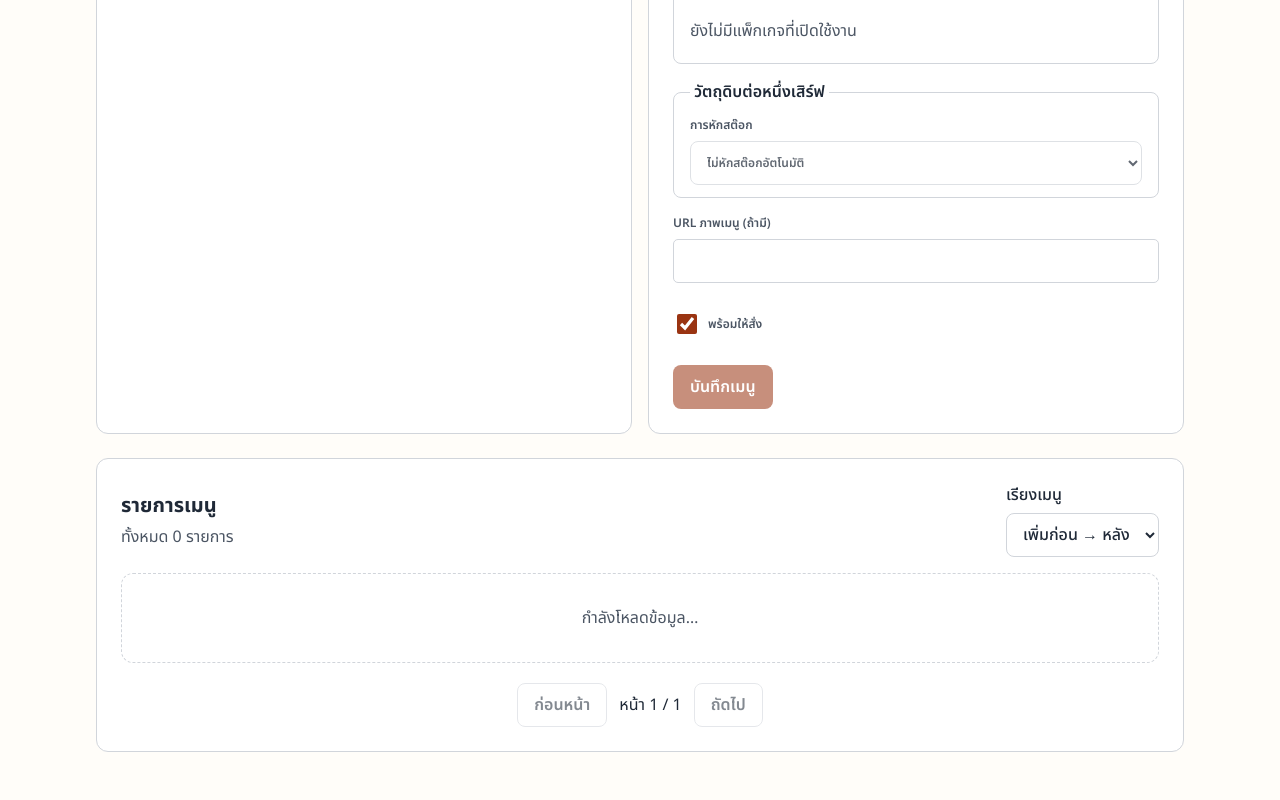
it: ignores a stale catalog failure after the selected sort succeeds
The image size is (1280, 800).
(page scrolled)
Select "ชื่อ Z → A" in the dropdown labelled "เรียงเมนู" at [1082, 535], box [1006, 513, 1159, 557]
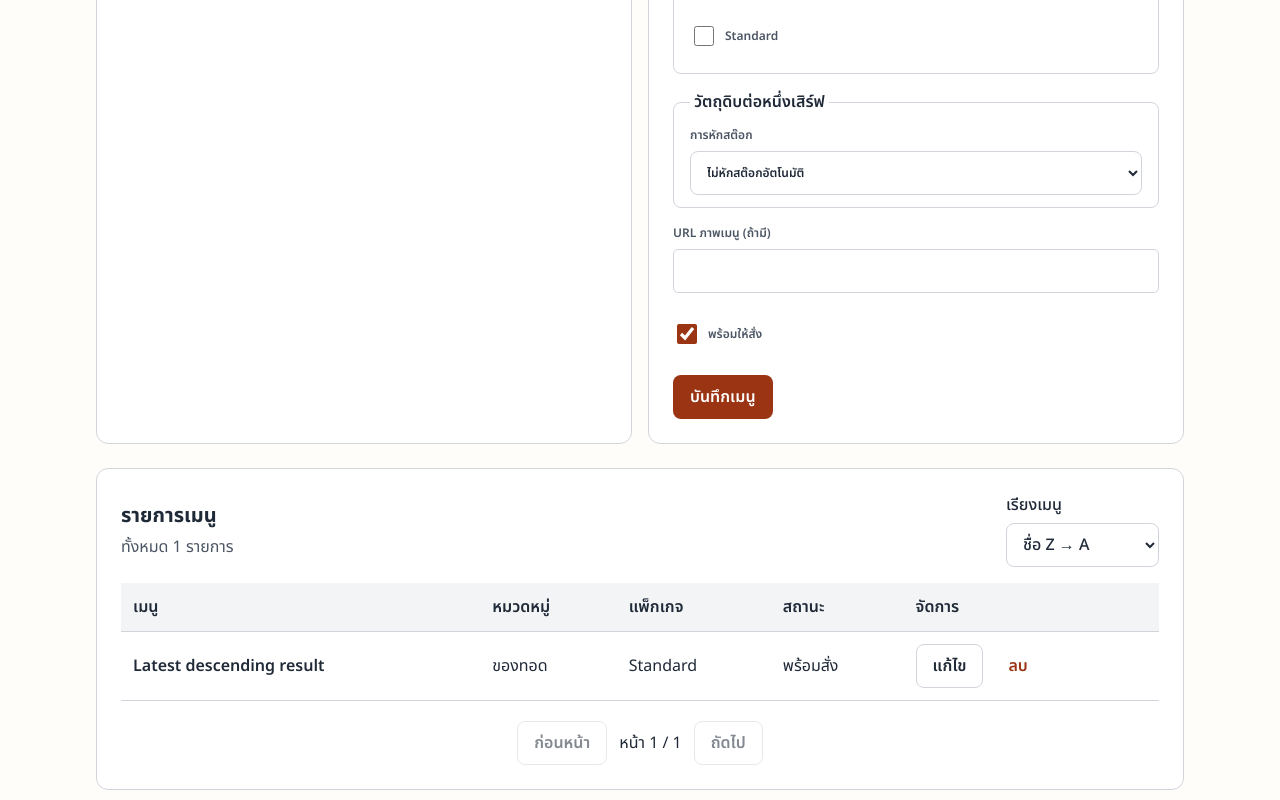
Expected: the text "Latest descending result" is shown, [133, 654, 324, 678]
Expected: the message "กำลังโหลดข้อมูล…" is gone
